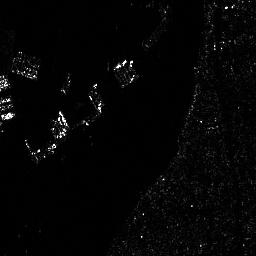ship: (87, 86, 103, 114)
